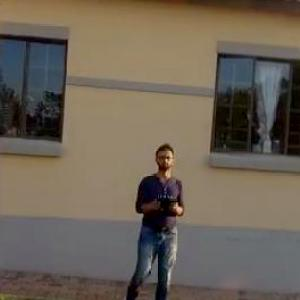follow: (117, 137, 188, 299)
